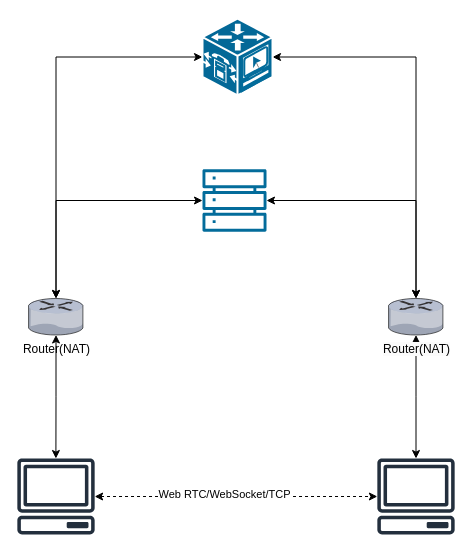
Image size: 472x551. Some labels were removed from this diagram. Here are the shapes that lost their labels. From the top down, the box of each, then its label:
(201, 17, 273, 96): ICE Server
(202, 168, 266, 232): Signalling server
